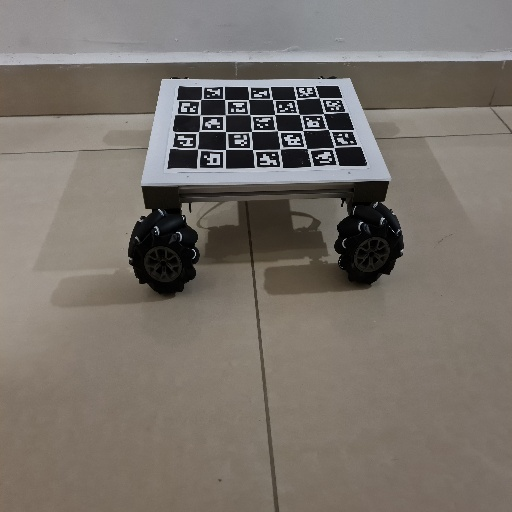Omniwheel: (127, 76, 407, 297)
